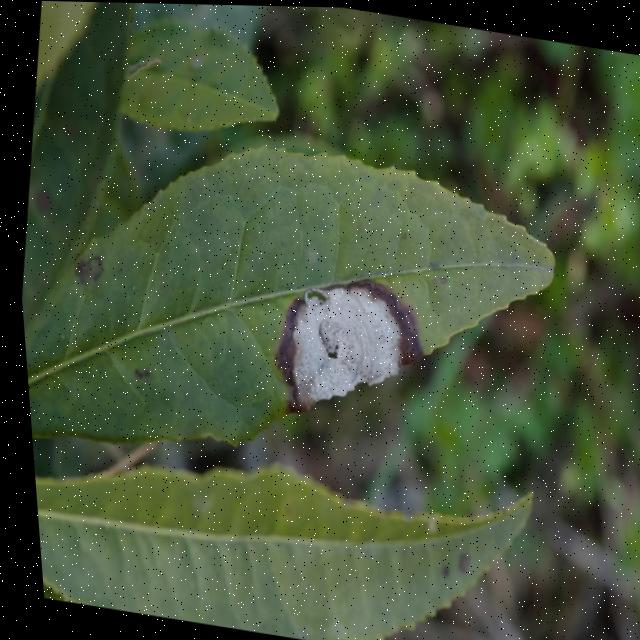Tea cloud leaf blight: (260, 272, 434, 417)
